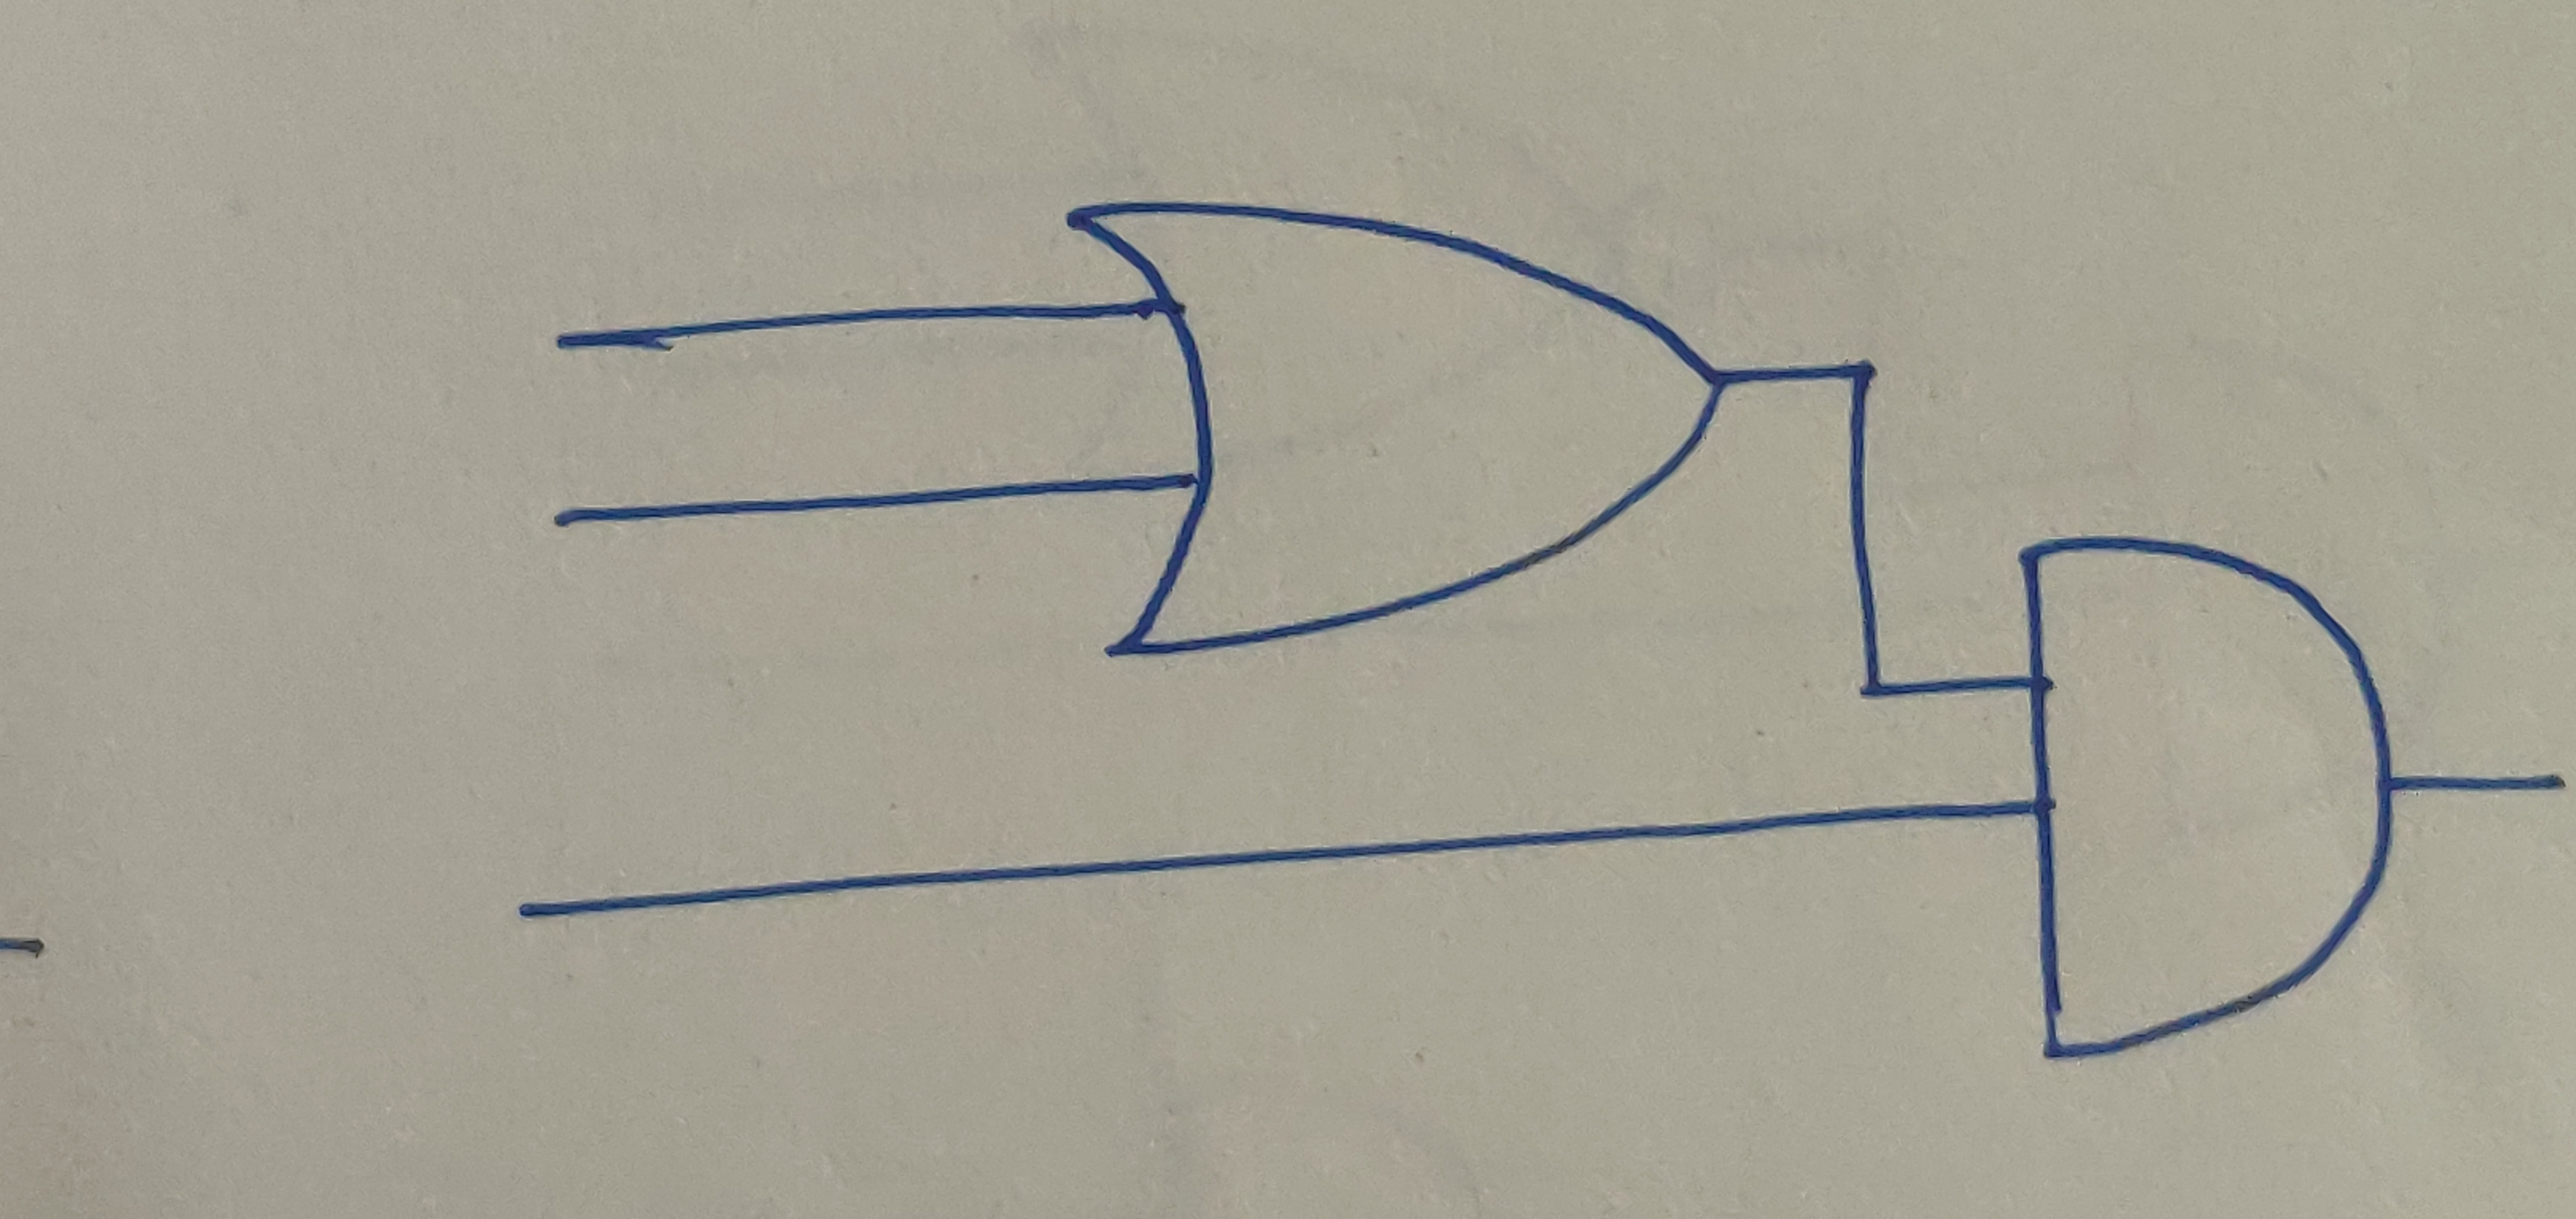and: (2006, 534, 2407, 1071)
or: (1058, 194, 1730, 662)
